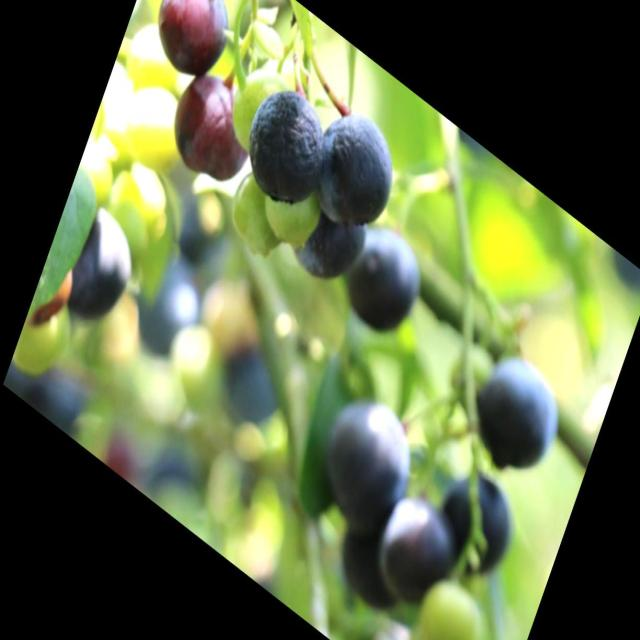blueberry: (311, 375, 424, 541), (468, 337, 574, 498), (298, 90, 402, 245), (232, 70, 335, 221), (336, 206, 430, 352), (371, 482, 459, 612)
blueberry-halfripe: (160, 56, 264, 204), (143, 0, 241, 96)
blueberry-unripe: (221, 158, 296, 268), (220, 48, 289, 162), (409, 564, 492, 639), (258, 165, 324, 256)
